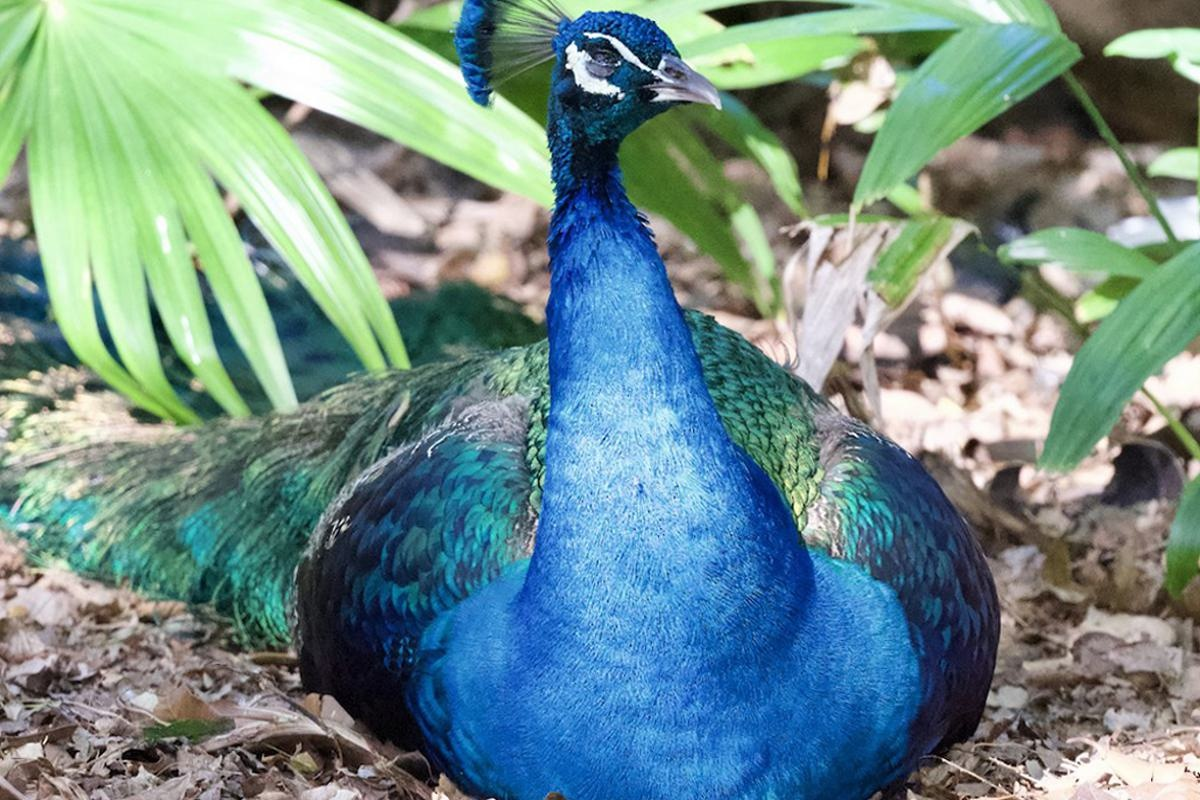peacock: (44, 2, 986, 800)
